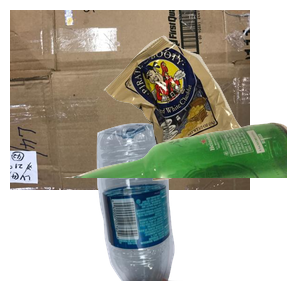cardboard: (10, 10, 250, 190)
glass: (60, 120, 300, 300)
plastic: (94, 120, 267, 300)
trash: (101, 33, 300, 206)
